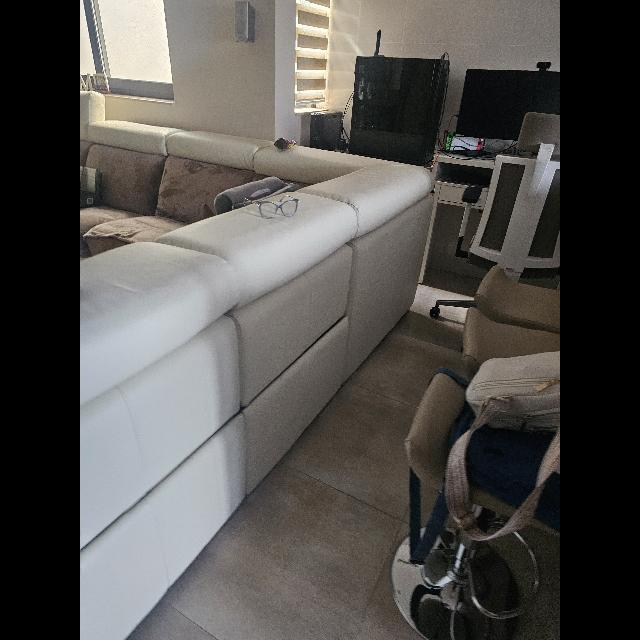glasses: (246, 196, 298, 218)
